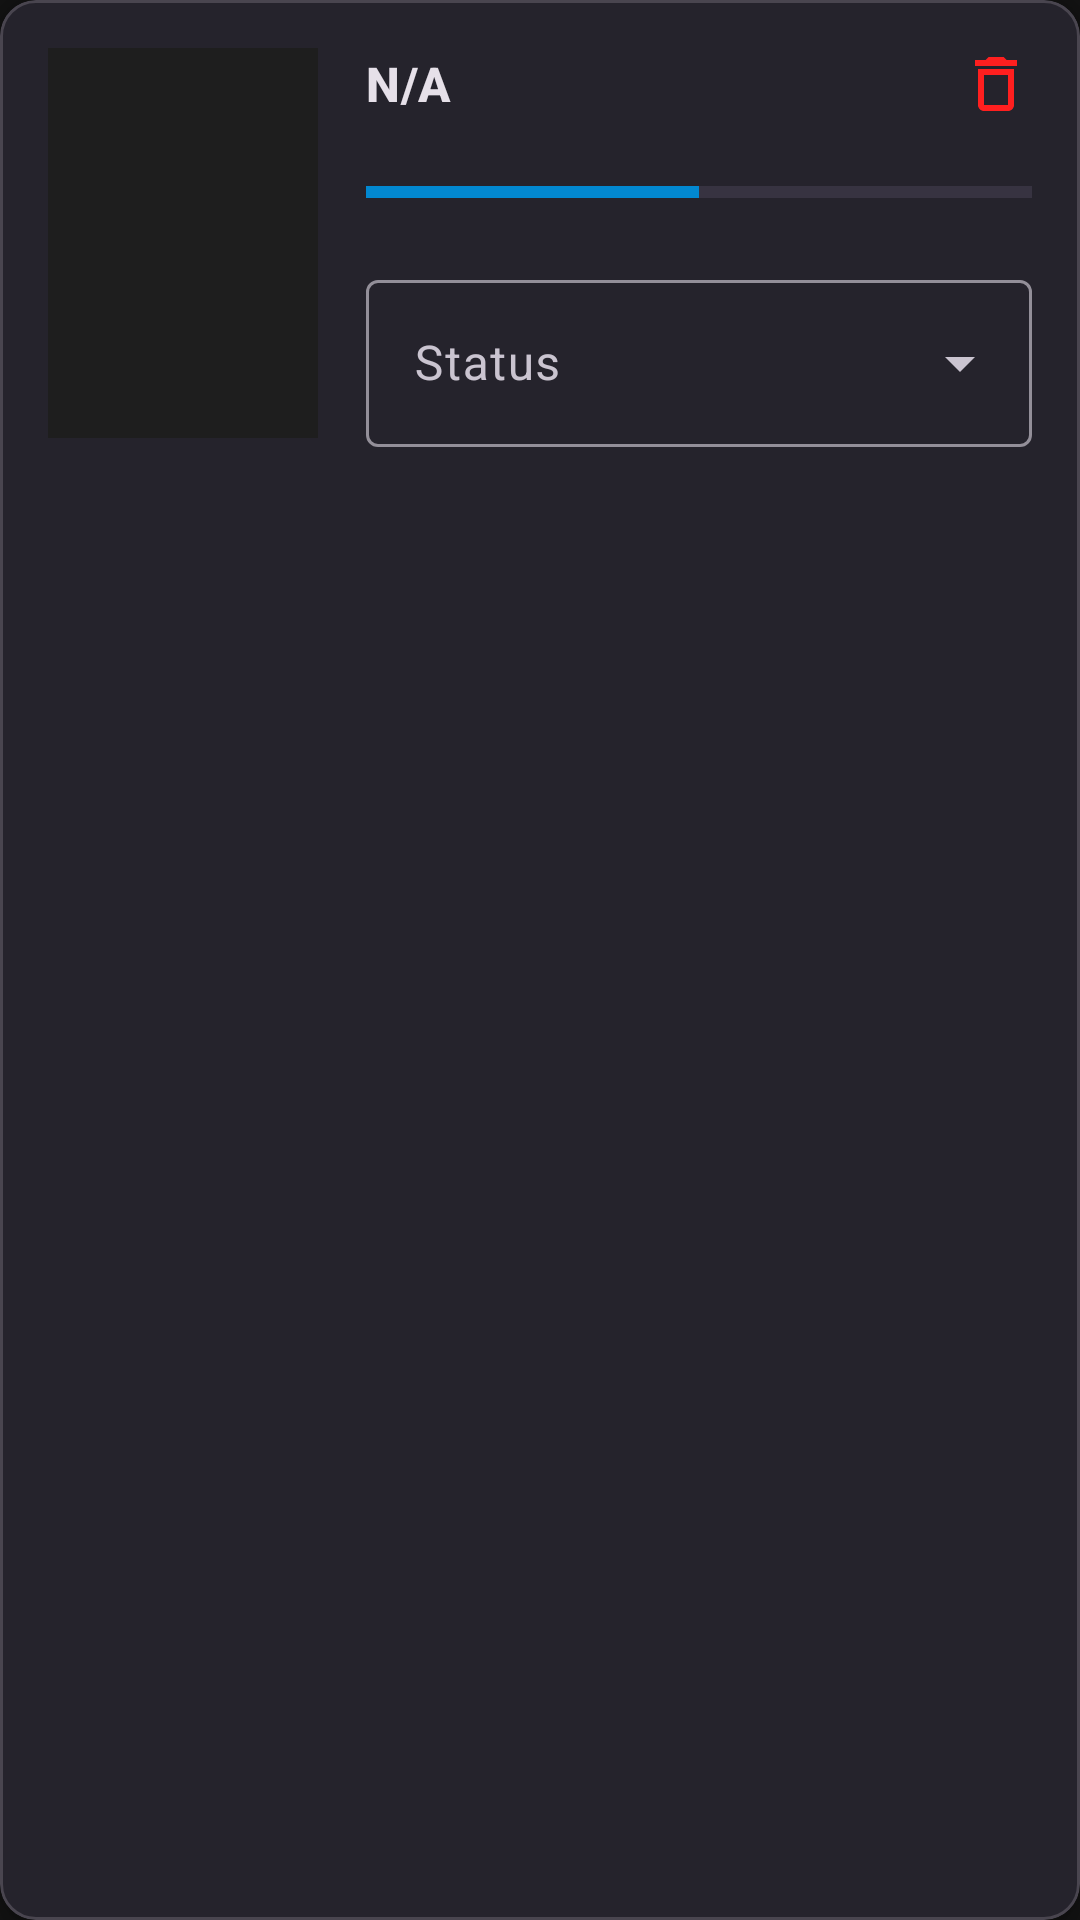

Icons on this 1080px×1920px Android screen, each with its box as (x1, y1, x2, y2):
delete: (975, 57, 1017, 111)
